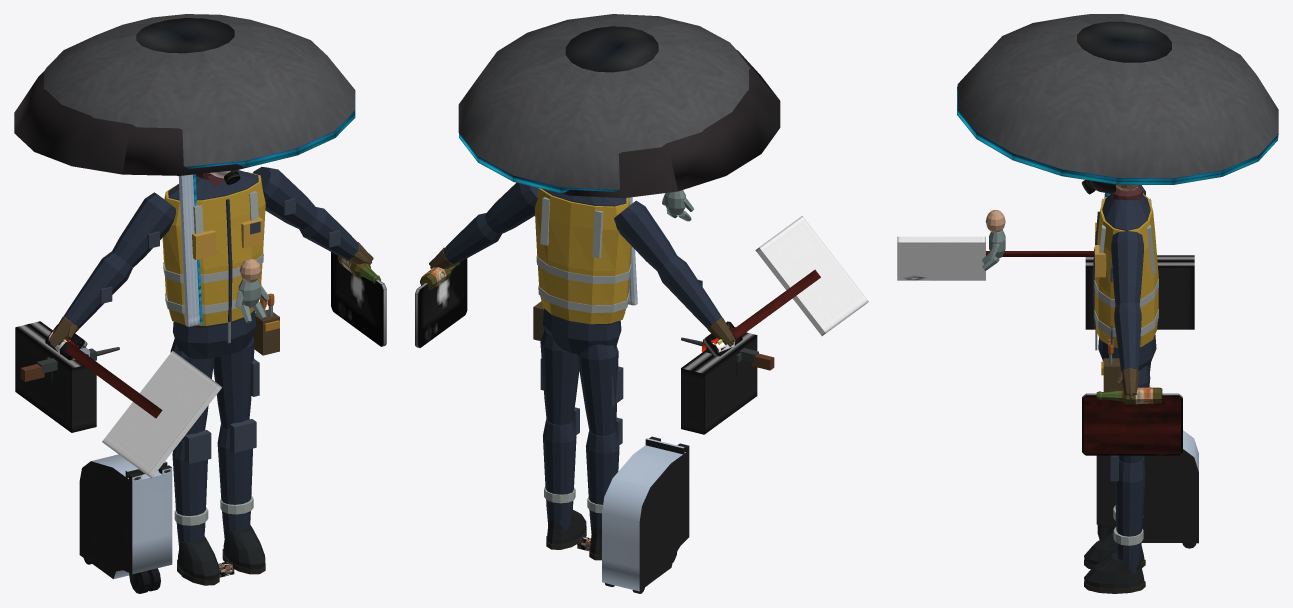
Rendered from civilian_worker_western.dae.
3 views of the same model, side by side, from view 1: azimuth 30°, elevation 25°; view 2: azimuth 150°, elevation 25°; view 3: azimuth 270°, elevation 25° (orthographic). The views are drawn at different scales.
Parts seen in each view (by area): view 1: Umbrella004, UpBody, Umbrella1, trolley, ProtestSign, Handbag, LowLeg2, LowLeg1, center, ShoppingBag, UpLeg2, UpArm1 (+10 smaller); view 2: Umbrella004, UpBody, trolley, Umbrella1, ProtestSign, Handbag, UpLeg1, LowLeg2, ShoppingBag, UpLeg2, LowLeg1, center (+7 smaller); view 3: Umbrella004, trolley, UpBody, ShoppingBag, ProtestSign, Handbag, LowLeg2, UpArm2, Feet2, LowArm2, center, SittingBaby (+2 smaller).
Part boxes in pixels (box(x1,y1,x2,y2)): Umbrella004: box(43, 14, 355, 324); UpBody: box(162, 170, 265, 343); Umbrella1: box(14, 71, 244, 326); trolley: box(79, 454, 172, 593); ProtestSign: box(65, 340, 222, 478); Handbag: box(15, 321, 96, 432); LowLeg2: box(217, 419, 256, 540); LowLeg1: box(172, 430, 211, 548); center: box(173, 293, 279, 358); ShoppingBag: box(331, 252, 386, 346); UpLeg2: box(213, 336, 259, 429); UpArm1: box(112, 192, 175, 267); Umbrella004: box(458, 14, 749, 193); UpBody: box(534, 188, 631, 325); trolley: box(602, 436, 689, 593); Umbrella1: box(564, 50, 780, 305); ProtestSign: box(716, 216, 868, 350); Handbag: box(681, 332, 757, 434); UpLeg1: box(577, 344, 623, 435); LowLeg2: box(543, 407, 579, 531); ShoppingBag: box(415, 258, 467, 347); UpLeg2: box(540, 330, 579, 425); LowLeg1: box(586, 417, 622, 534); center: box(533, 301, 621, 354); Umbrella004: box(957, 14, 1278, 197); trolley: box(1096, 430, 1198, 548); UpBody: box(1092, 185, 1158, 350); ShoppingBag: box(1082, 393, 1182, 455); ProtestSign: box(897, 236, 1093, 280); Handbag: box(1085, 255, 1194, 329); LowLeg2: box(1110, 455, 1145, 573); UpArm2: box(1111, 231, 1143, 305); Feet2: box(1084, 552, 1145, 593); LowArm2: box(1114, 302, 1141, 371); center: box(1098, 335, 1156, 391); SittingBaby: box(982, 210, 1005, 270).
Bounding box in the file's own units: 944 × 1378 × 900.
Materials: 1 (1 with a texture image).
